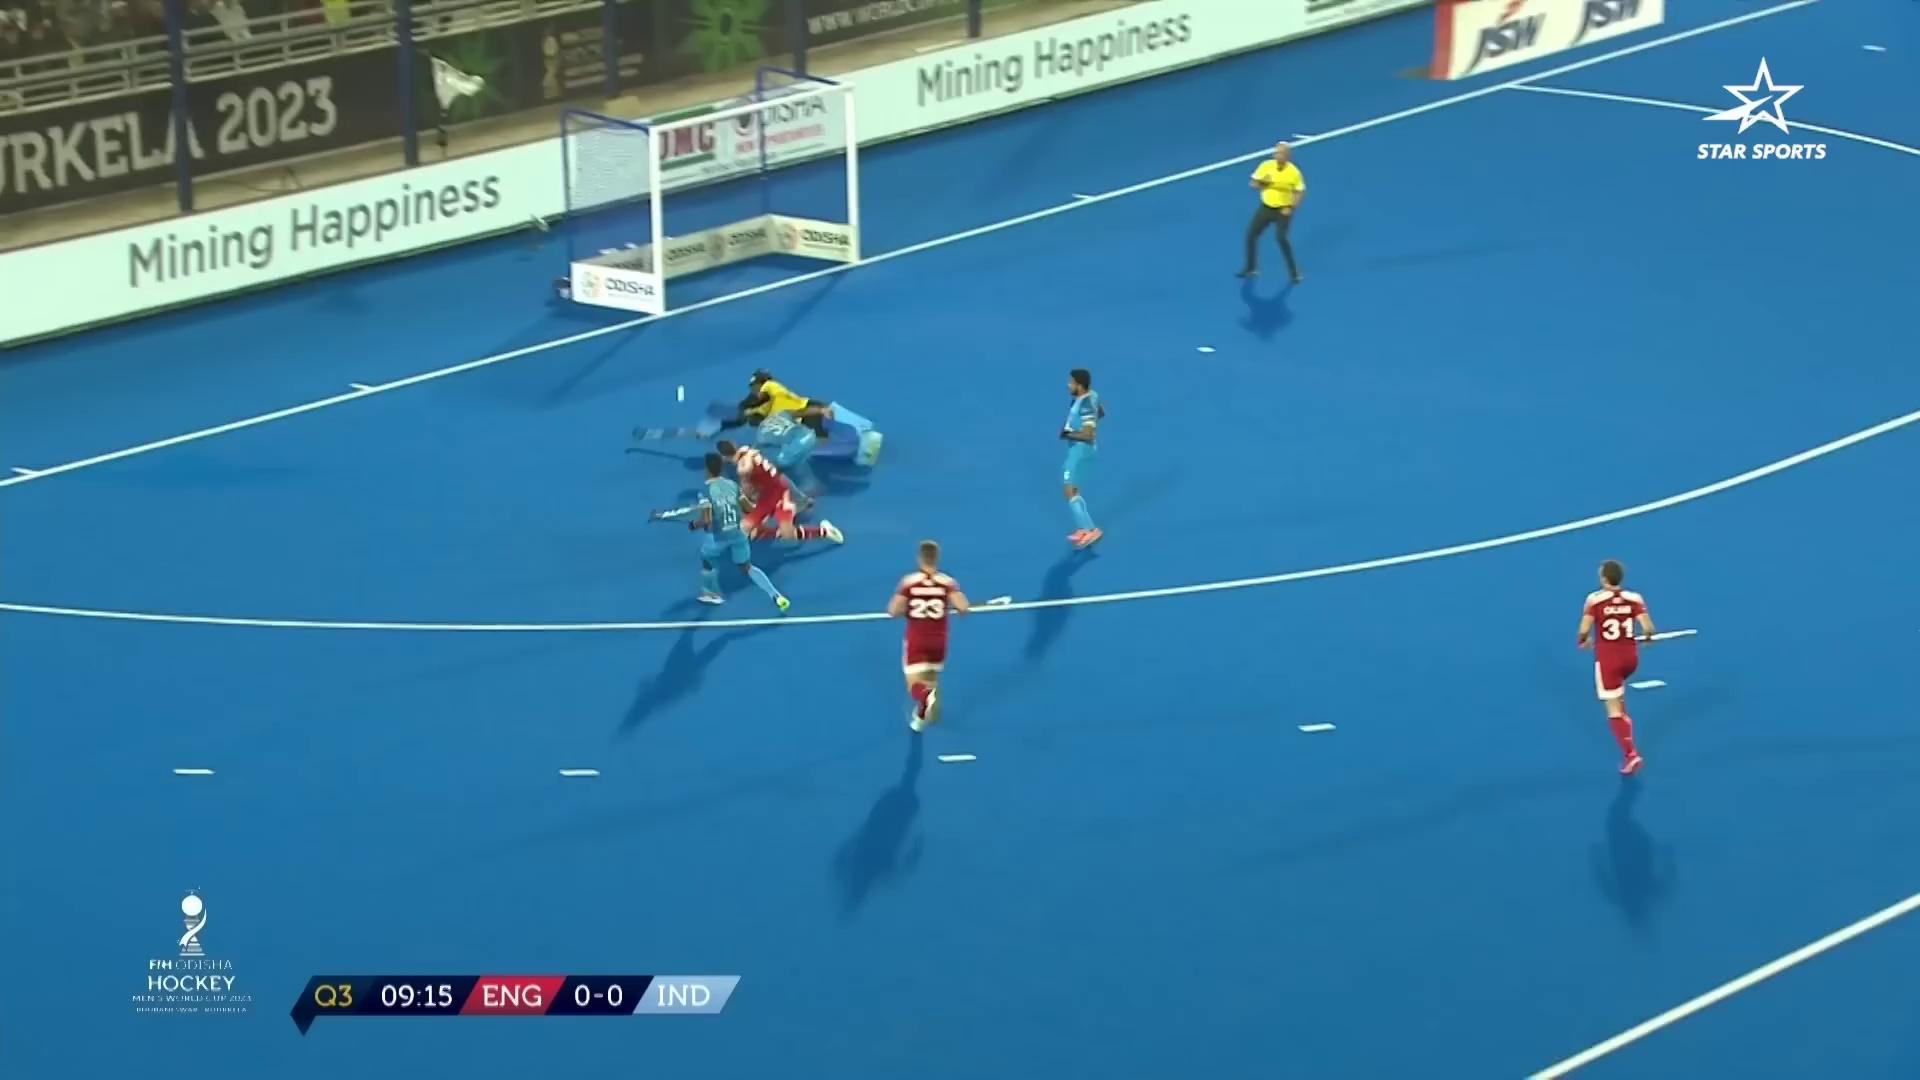ball: (666, 375, 699, 405)
